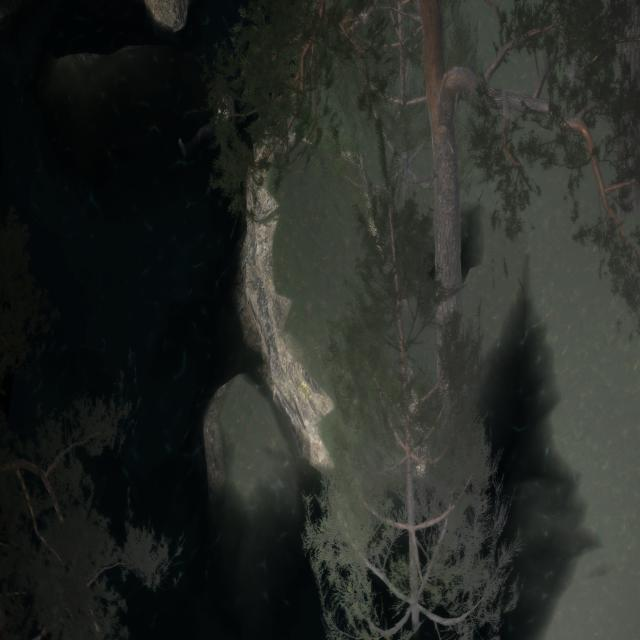Human: (179, 80, 239, 186)
